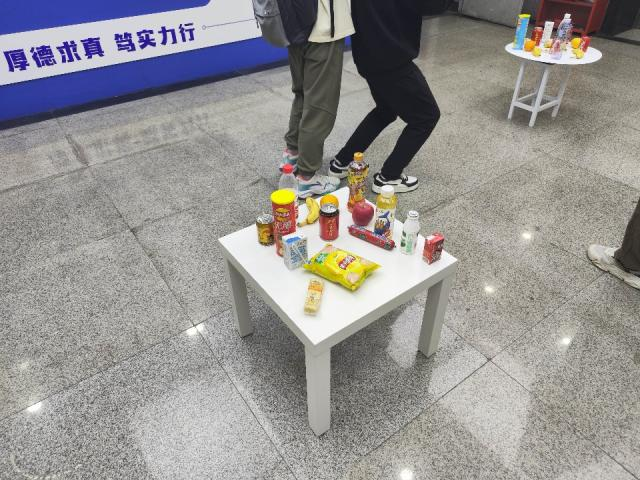Canned_drinks: (318, 206, 342, 242), (256, 212, 279, 248)
drink_box: (422, 232, 444, 264)
